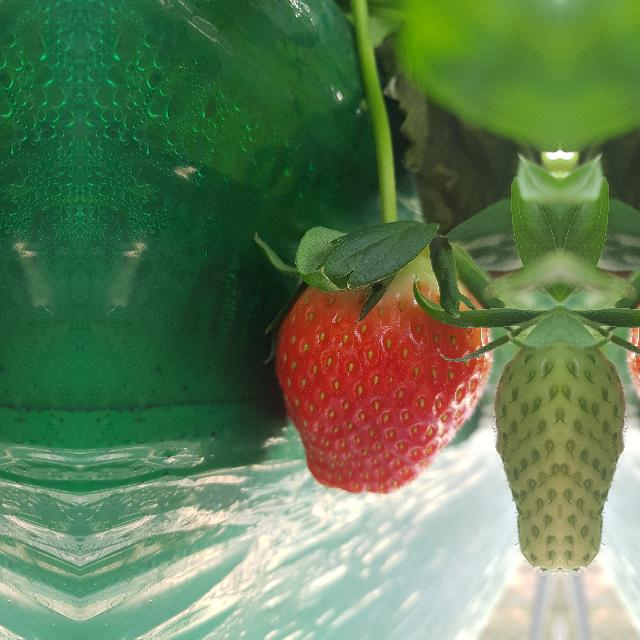Health_100: (273, 243, 492, 493)
